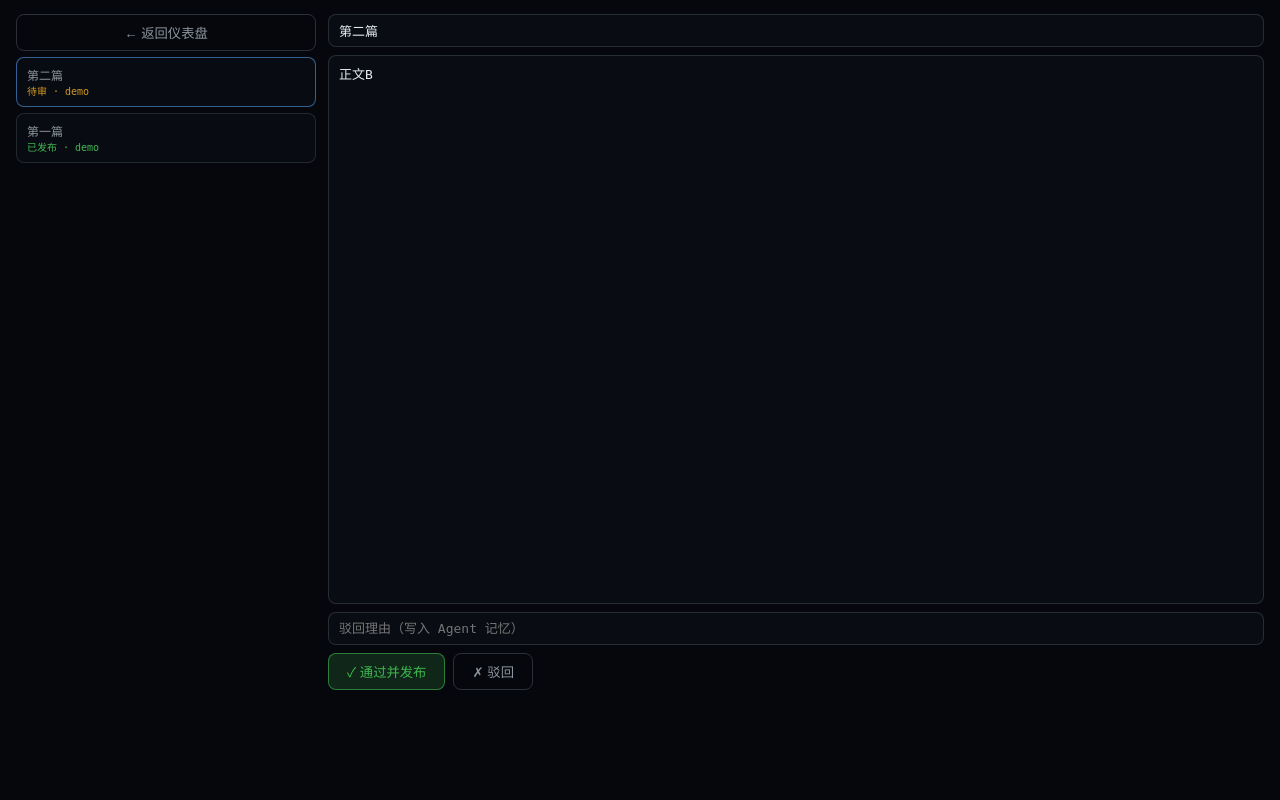
审查 Important #1：reject 失败时 flash 显示驳回失败
Check: the text "第二篇" is shown, box [27,69,63,83]
Click the button "✗ 驳回" at (493, 672), box [454,653,533,690]
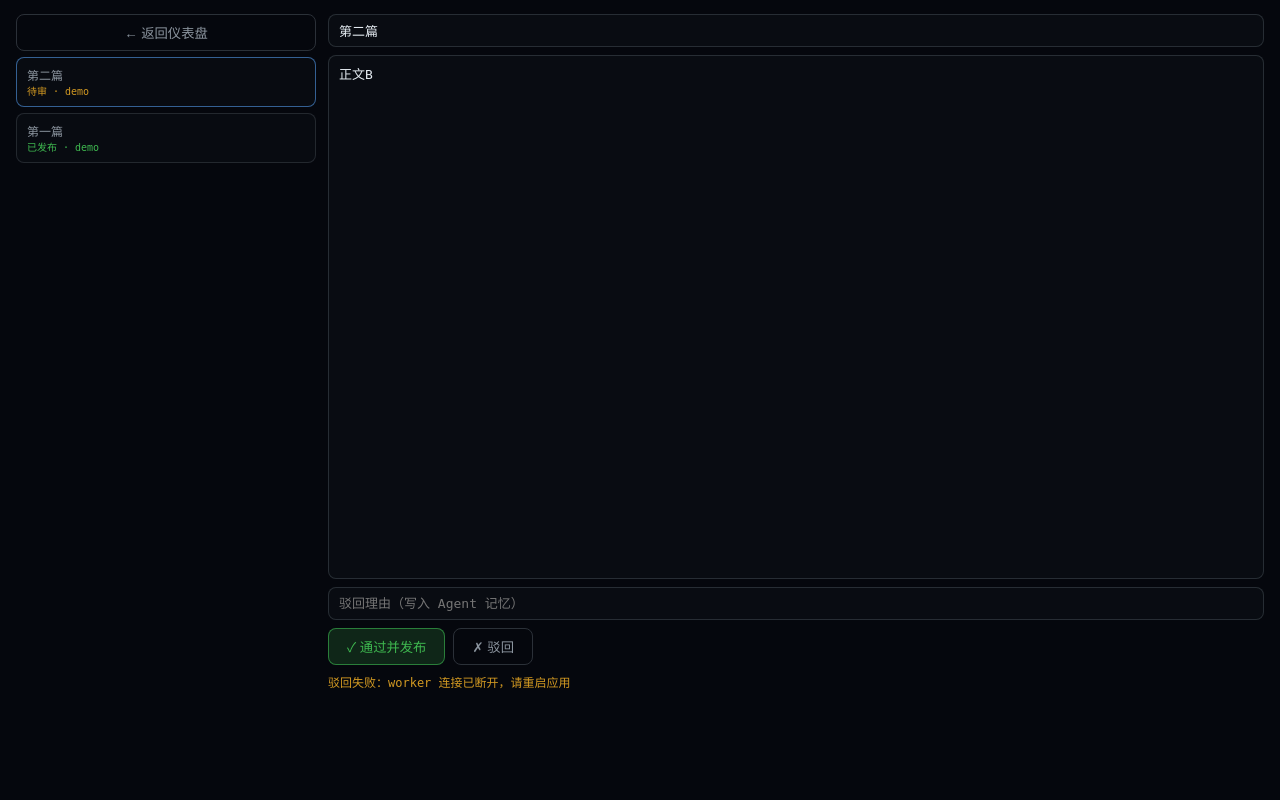
Check: the text "驳回失败：worker 连接已断开，请重启应用" is shown, box [328,676,571,690]
